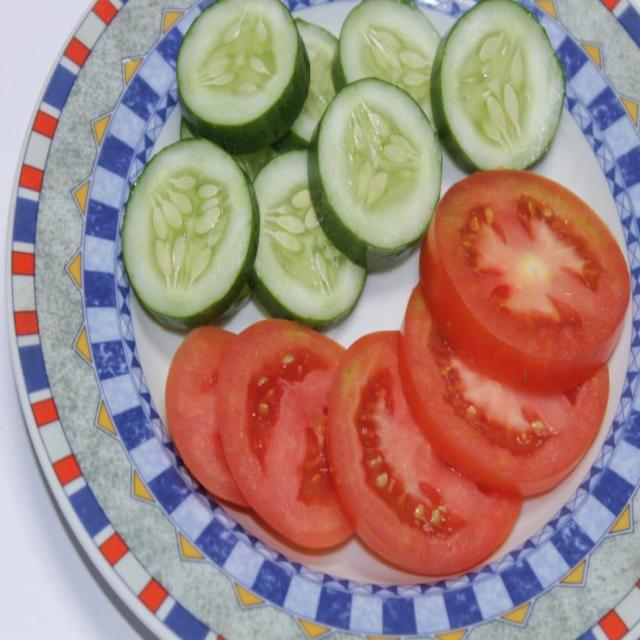Tomato: (433, 165, 632, 378), (222, 316, 362, 548), (334, 331, 456, 572)
